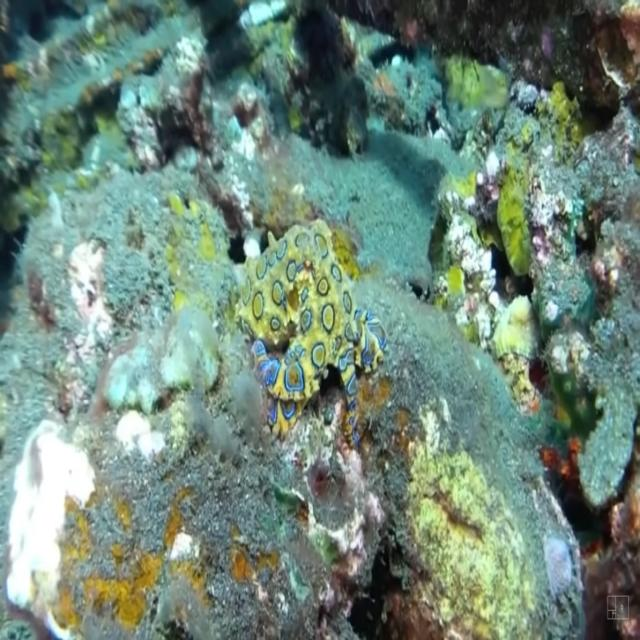blue_ringed_octopus: (233, 213, 388, 452)
